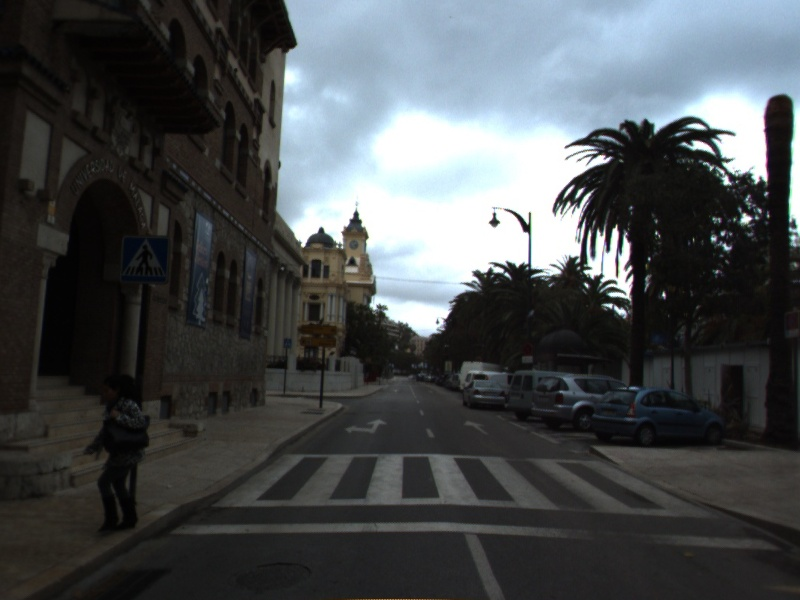STRAIGHT: (462, 418, 491, 437)
STRAIGHT_LEFT: (342, 417, 389, 436)
